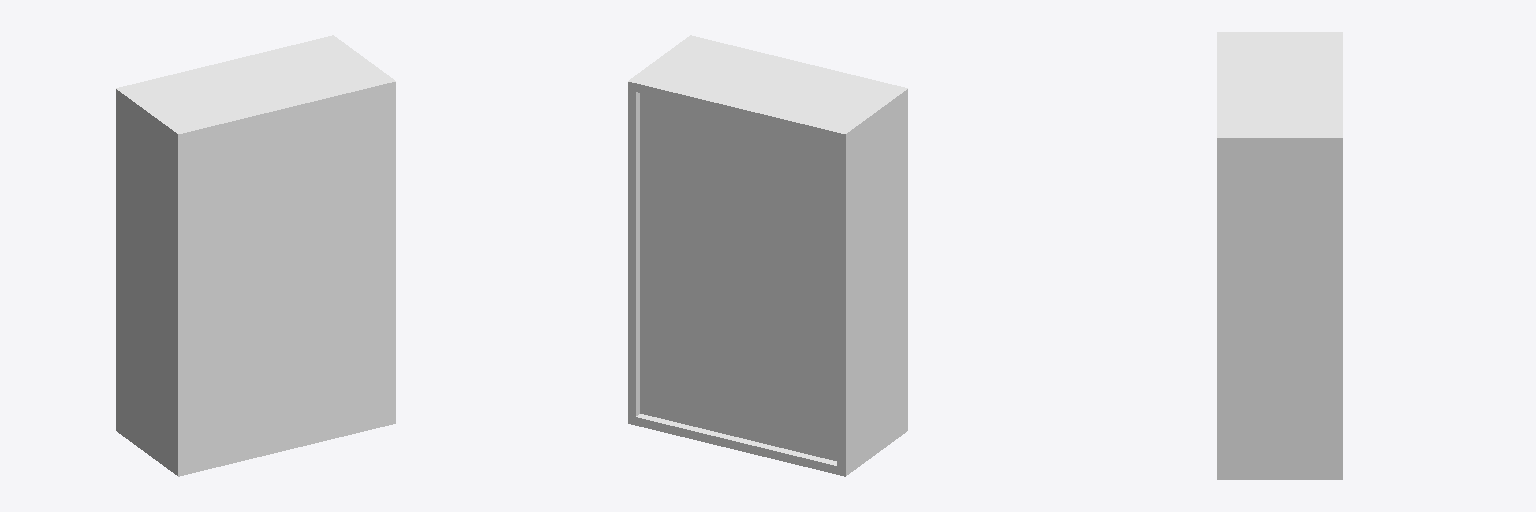
File: basmilieu.obj
3 renders of one model, left to right at view 1: azimuth 30°, elevation 25°; view 2: azimuth 150°, elevation 25°; view 3: azimuth 270°, elevation 25°, orthographic.
Size of the model in its own units: 80 by 120 by 40.